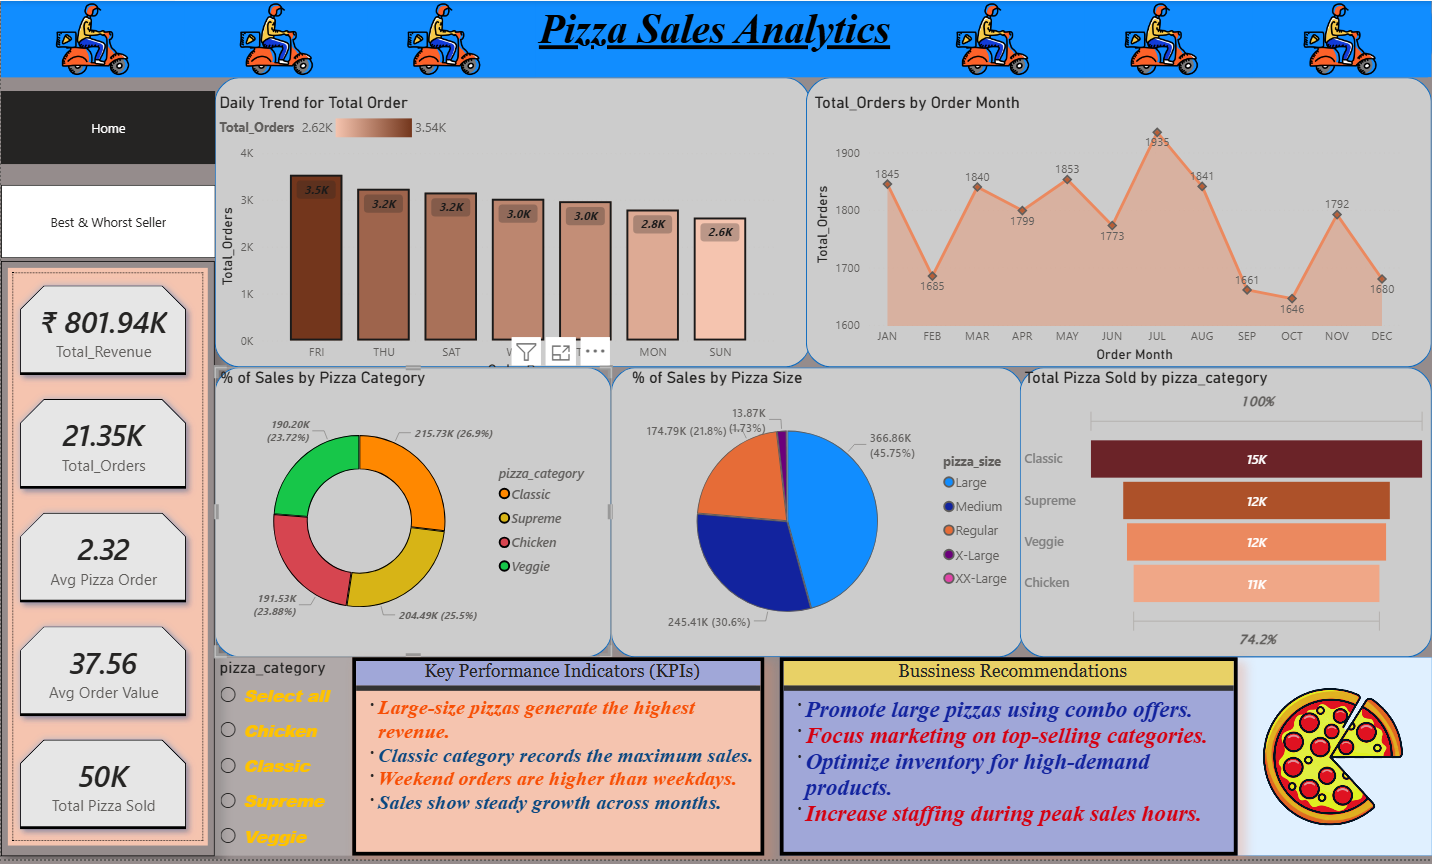

Layout of this report page (visuals, bound fields, positions):
{"tool":"powerbi","page":{"name":"Home ","canvas":[1500,900],"ordinal":0},"visuals":[{"type":"cardVisual","fields":{"Data":["pizza_Sales.Total_Revenue","pizza_Sales.Total_Orders","pizza_Sales.Avg Pizza Order","pizza_Sales.Avg Order Value","pizza_Sales.Total Pizza Sold"]},"box":[0,272,224,624],"z":0},{"type":"shape","box":[0,0,1500,68.3],"z":1000},{"type":"textbox","box":[0,0,1496,80],"z":2000},{"type":"shape","box":[224,80,624,304],"z":3000},{"type":"columnChart","title":"Daily Trend for Total Order","fields":{"Category":["pizza_Sales.Order Day"],"Y":["pizza_Sales.Total_Orders"]},"box":[224,96,592,304],"z":4000},{"type":"shape","box":[844,80,656,304],"z":5000},{"type":"areaChart","fields":{"Category":["pizza_Sales.Order Month"],"Y":["pizza_Sales.Total_Orders"]},"box":[848,96,624,288],"z":6000},{"type":"shape","box":[224,384,416,304],"z":7000},{"type":"shape","box":[640,384,432,304],"z":8000},{"type":"shape","box":[1068,384,432,304],"z":9000},{"type":"donutChart","title":"% of Sales by Pizza Category","fields":{"Category":["pizza_Sales.pizza_category"],"Y":["pizza_Sales.Total_Revenue"]},"box":[224,384,416,304],"z":10000},{"type":"pieChart","title":"% of Sales by Pizza Size","fields":{"Category":["pizza_Sales.pizza_size"],"Y":["pizza_Sales.Total_Revenue"]},"box":[656,384,416,304],"z":11000},{"type":"funnel","fields":{"Category":["pizza_Sales.pizza_category"],"Y":["pizza_Sales.Total Pizza Sold"]},"box":[1068,384,432,304],"z":12000},{"type":"listSlicer","fields":{"Values":["pizza_Sales.pizza_category"]},"box":[224,688,144,208],"z":13000},{"type":"pageNavigator","box":[0,95,225,77.5],"z":14000},{"type":"pageNavigator","box":[0,192.5,225,77.5],"z":15000},{"type":"actionButton","box":[0,0,100,40],"z":16000},{"type":"image","box":[0,0,192,80],"z":20000},{"type":"image","box":[368,0,192,80],"z":21000},{"type":"image","box":[192,0,192,80],"z":22000},{"type":"image","box":[1308,0,192,80],"z":23000},{"type":"image","box":[1120,0,192,80],"z":24000},{"type":"image","box":[944,0,192,80],"z":25000},{"type":"image","box":[1292,688,208,208],"z":26000},{"type":"textbox","title":"Key Performance Indicators (KPIs)","box":[368,688,432,208],"z":26001},{"type":"textbox","title":"Bussiness Recommendations","box":[816,688,480,208],"z":26002}]}

Visuals, with their boxes in screenshot pixels (x1, y1, x2, y2), scaled from the page's 1500x900 canvas onto the 1432x864 screenshot:
cardVisual - pizza_Sales.Total_Revenue x pizza_Sales.Total_Orders: crop(0, 261, 214, 860)
shape: crop(0, 0, 1431, 66)
textbox: crop(0, 0, 1428, 77)
shape: crop(214, 77, 810, 369)
"Daily Trend for Total Order" columnChart: crop(214, 92, 779, 384)
shape: crop(806, 77, 1431, 369)
areaChart - pizza_Sales.Order Month x pizza_Sales.Total_Orders: crop(810, 92, 1405, 369)
shape: crop(214, 369, 611, 660)
shape: crop(611, 369, 1023, 660)
shape: crop(1020, 369, 1431, 660)
"% of Sales by Pizza Category" donutChart: crop(214, 369, 611, 660)
"% of Sales by Pizza Size" pieChart: crop(626, 369, 1023, 660)
funnel - pizza_Sales.pizza_category x pizza_Sales.Total Pizza Sold: crop(1020, 369, 1431, 660)
listSlicer - pizza_Sales.pizza_category: crop(214, 660, 351, 860)
pageNavigator: crop(0, 91, 215, 166)
pageNavigator: crop(0, 185, 215, 259)
actionButton: crop(0, 0, 95, 38)
image: crop(0, 0, 183, 77)
image: crop(351, 0, 535, 77)
image: crop(183, 0, 367, 77)
image: crop(1249, 0, 1431, 77)
image: crop(1069, 0, 1253, 77)
image: crop(901, 0, 1085, 77)
image: crop(1233, 660, 1431, 860)
"Key Performance Indicators (KPIs)" textbox: crop(351, 660, 764, 860)
"Bussiness Recommendations" textbox: crop(779, 660, 1237, 860)
